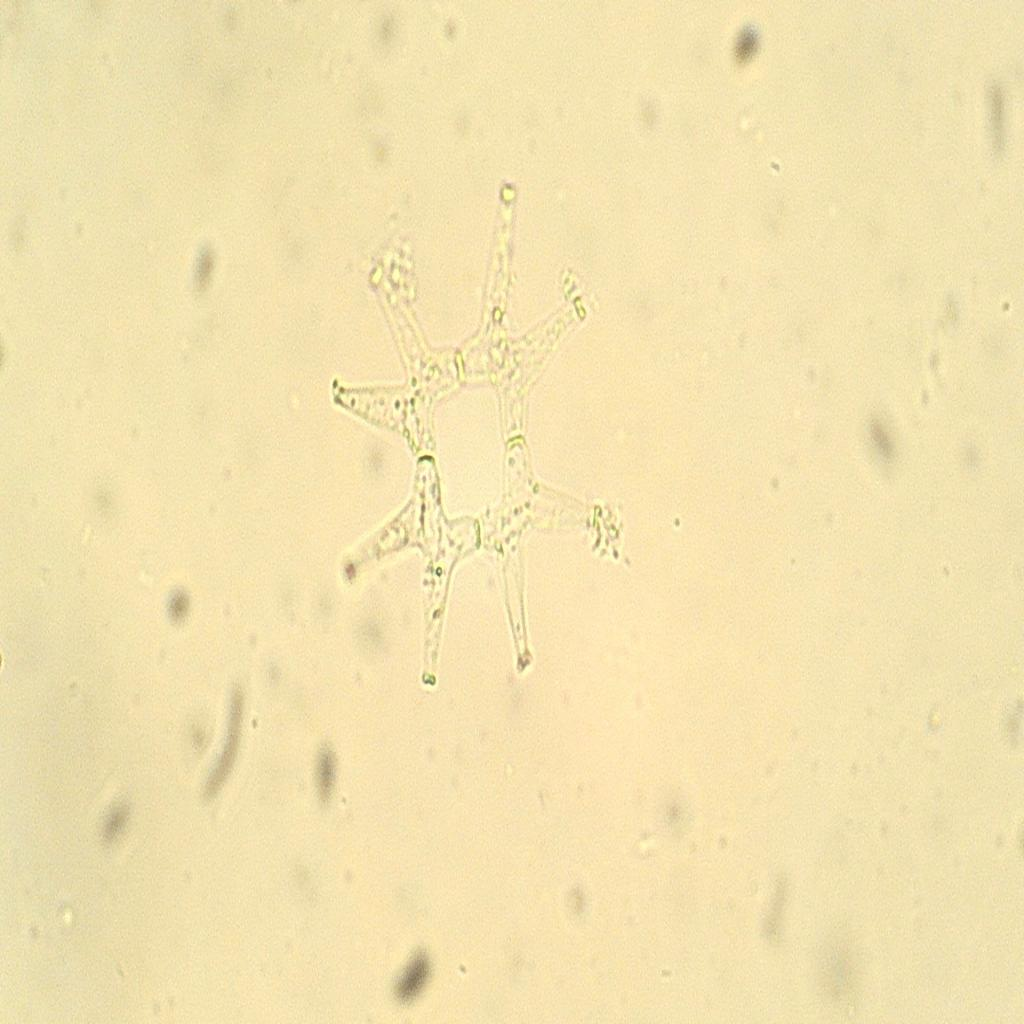Pediastrum_1F0: (299, 140, 630, 735)
